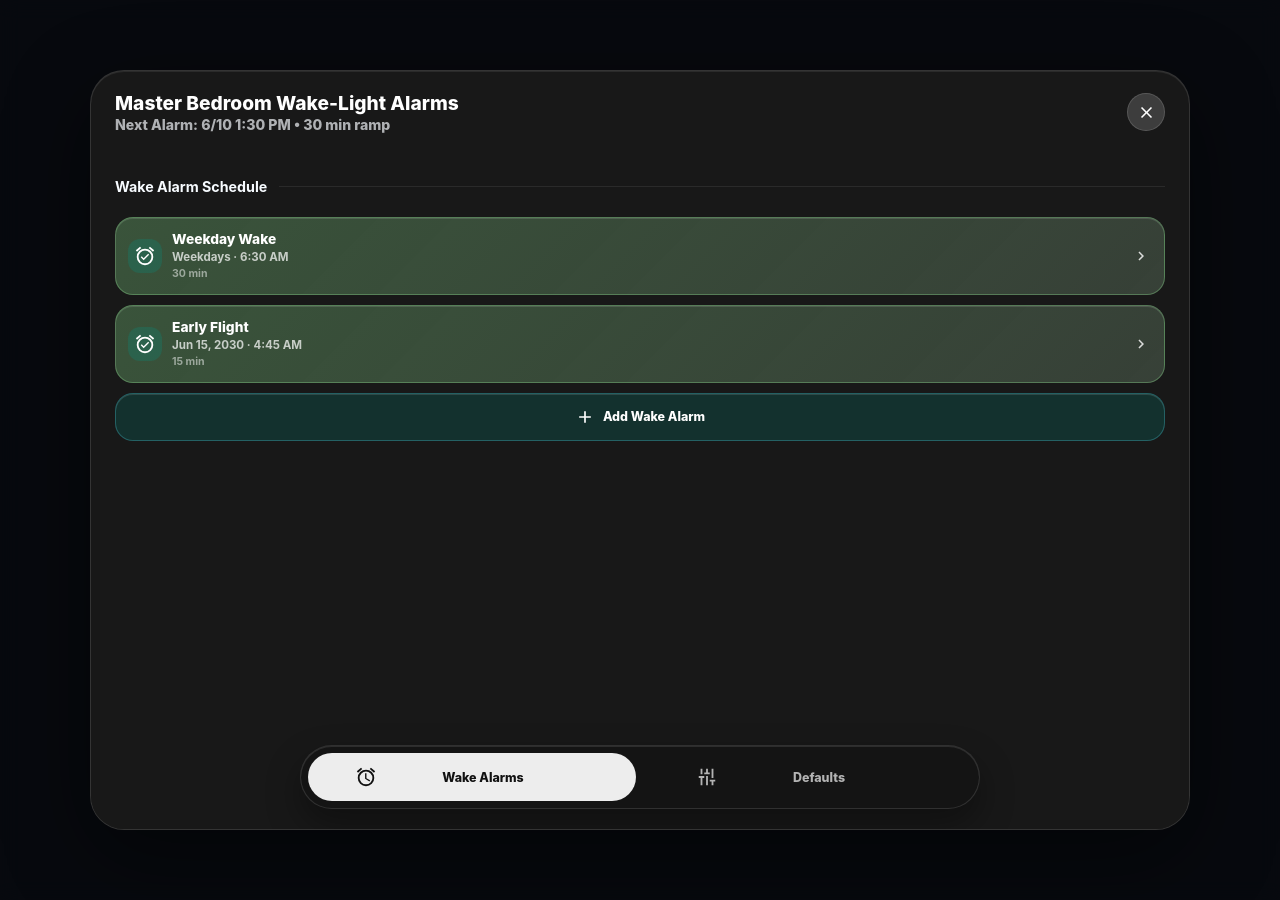
Test case: WakeLightModalContent › enables Save only while the alarm editor holds outstanding changes
Step 1. Click the text "Weekday Wake" → (224, 239), box [172,231,276,247]
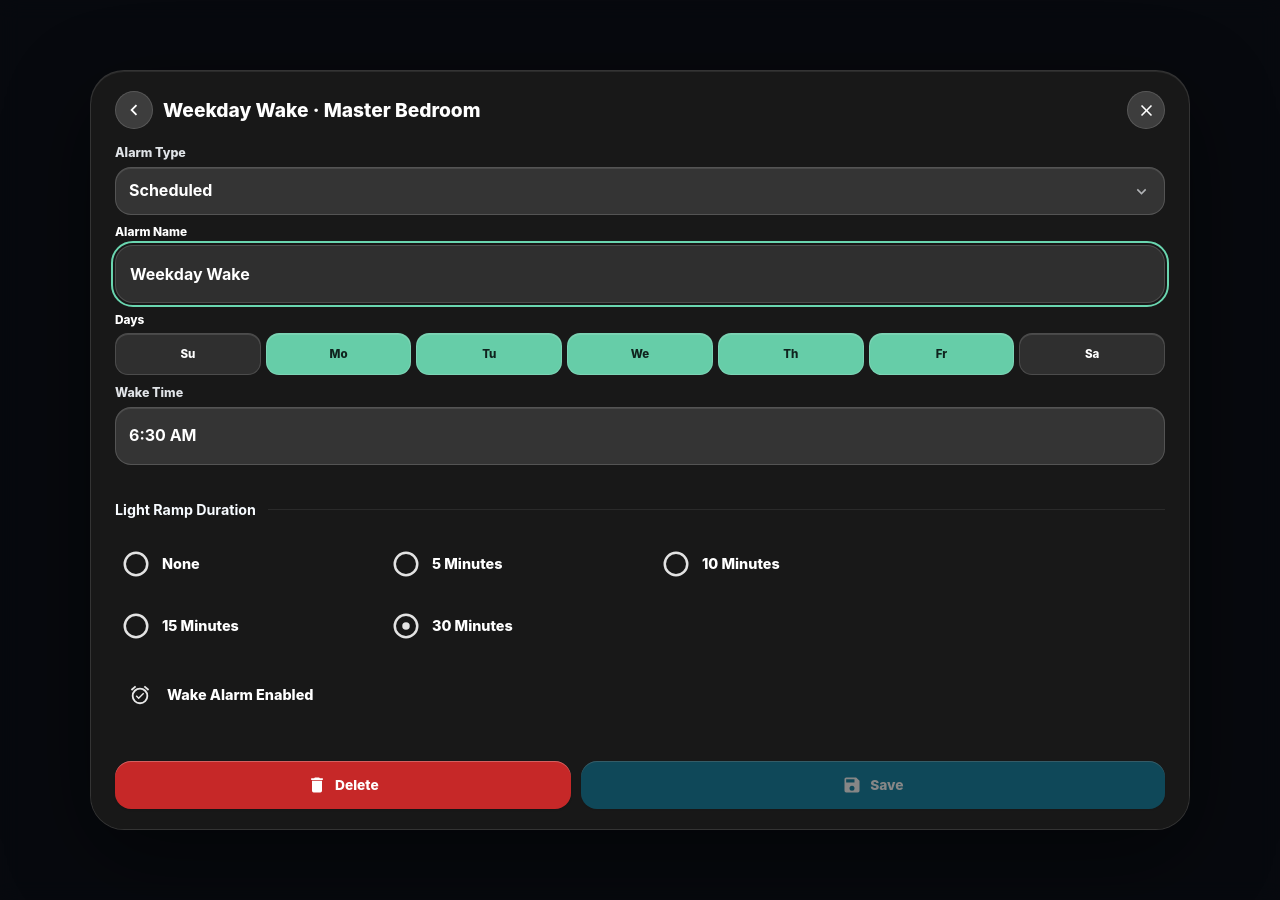
Expected: the button "Save" is disabled, [581,761,1165,809]
Step 2. Replace the text in the field labelled "Alarm Name" with "Weekday Wakeup" → (640, 274), box [115,245,1165,303]
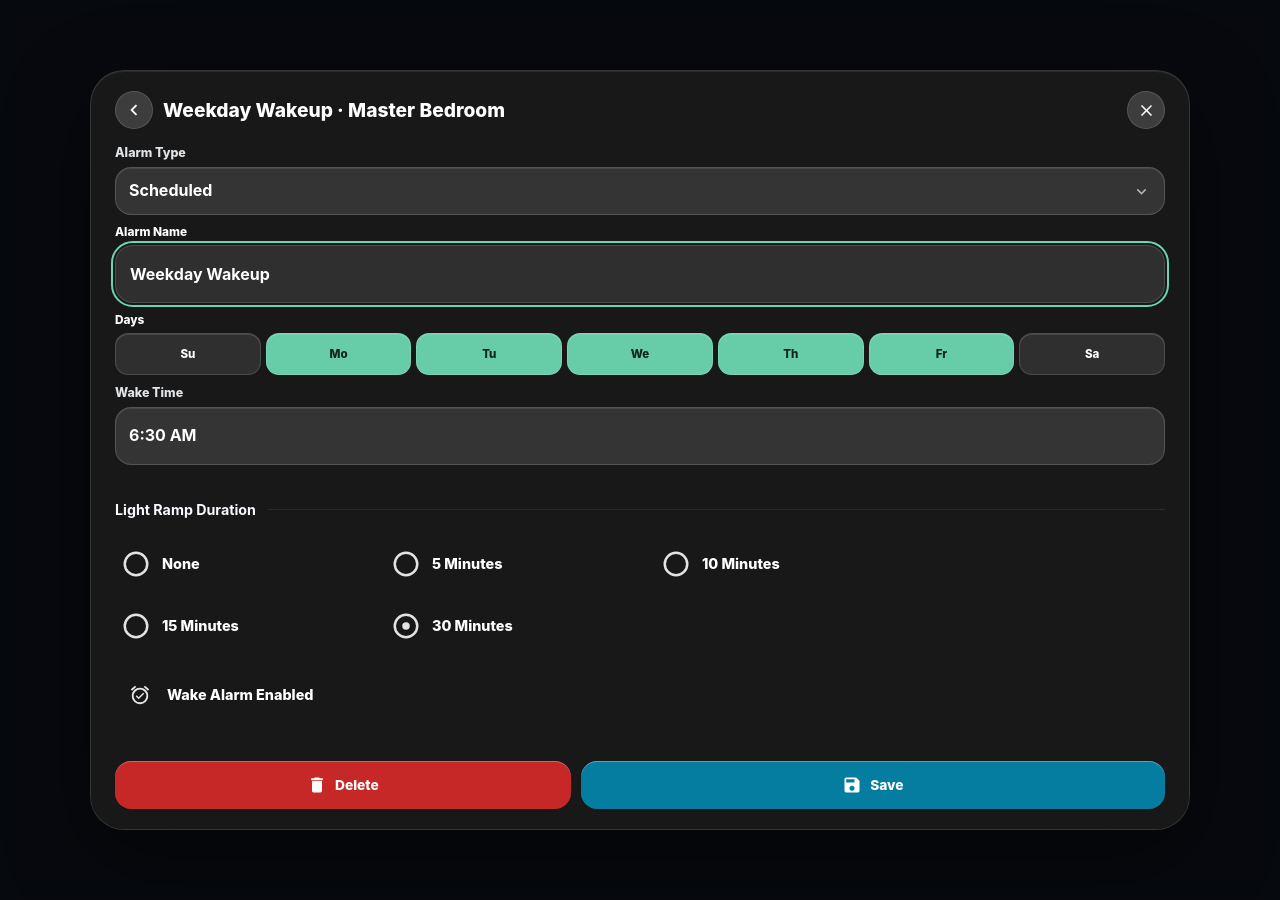
Expected: the button "Save" is enabled, [581,761,1165,809]
Step 3. Replace the text in the field labelled "Alarm Name" with "Weekday Wake" → (640, 274), box [115,245,1165,303]
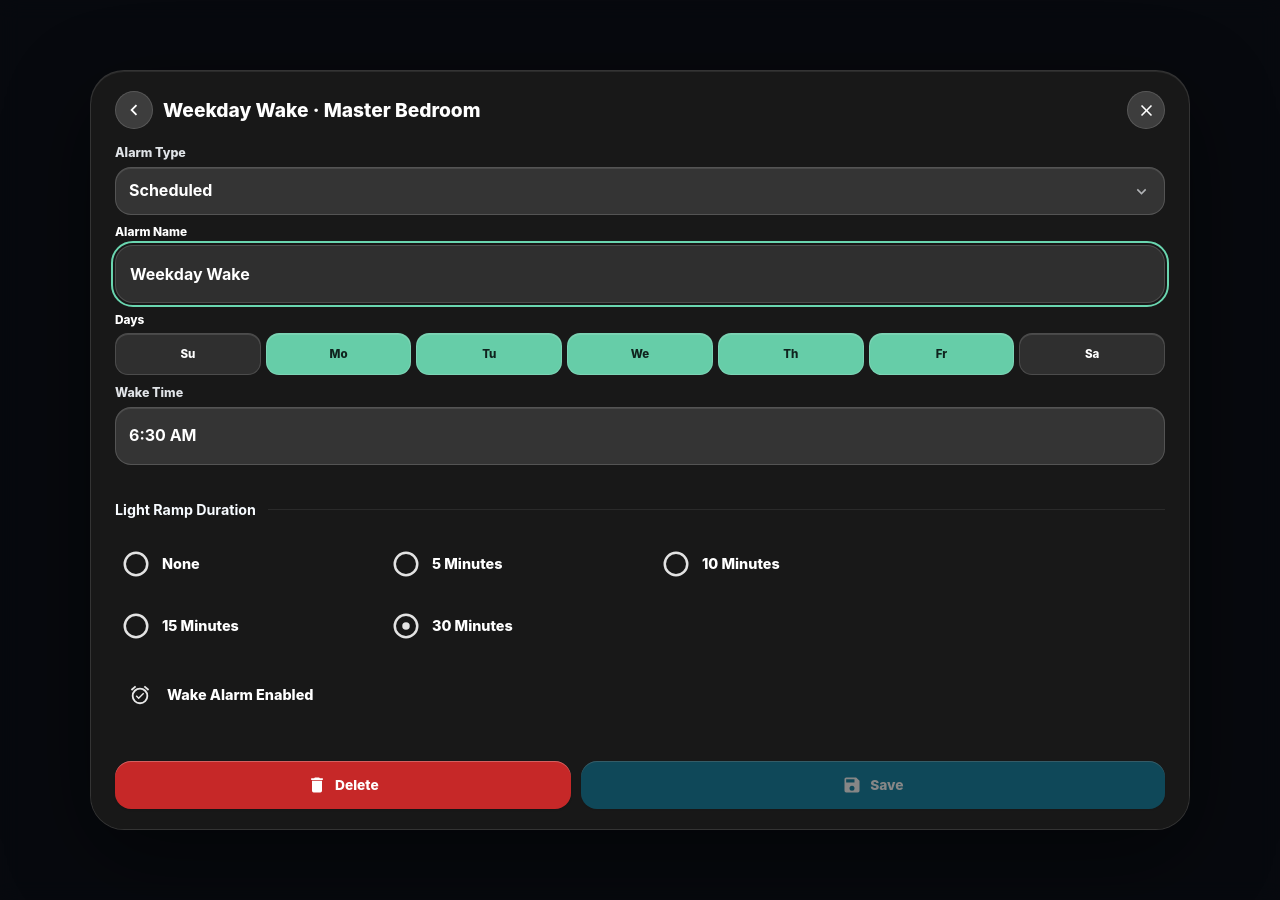
Expected: the button "Save" is disabled, [581,761,1165,809]
